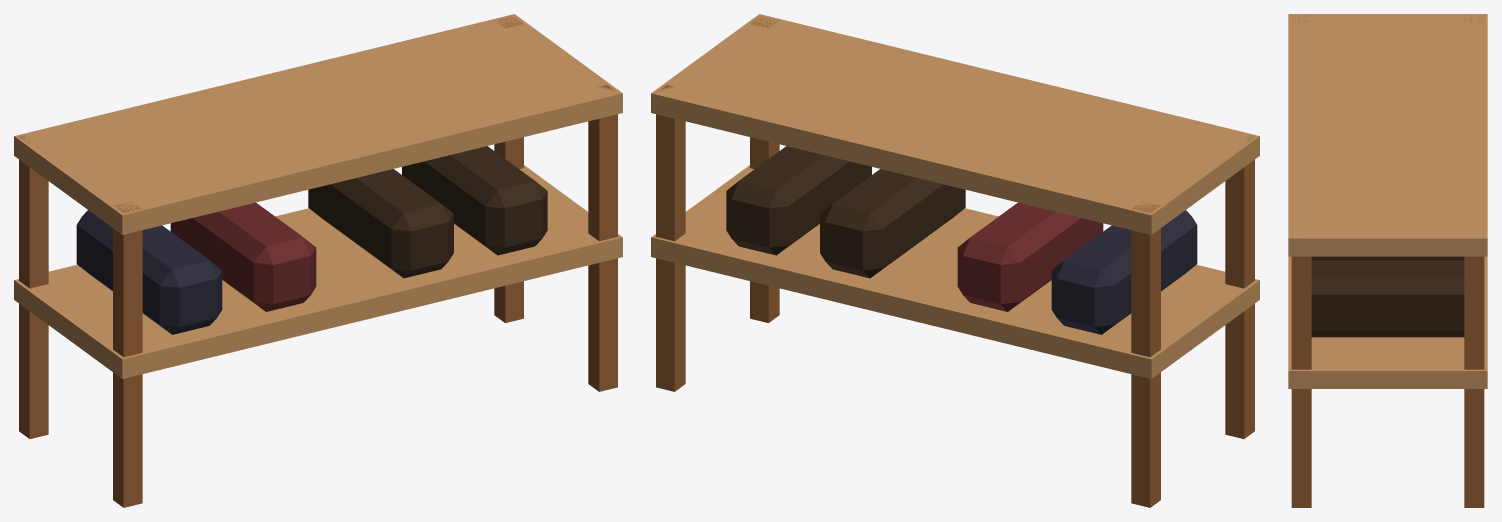
File: shoeRack.fbx
3 views of the same model, side by side, from view 1: azimuth 30°, elevation 25°; view 2: azimuth 150°, elevation 25°; view 3: azimuth 270°, elevation 25° (orthographic). The views are drawn at different scales.
Parts seen in each view (by area): view 1: shoeRack; view 2: shoeRack; view 3: shoeRack.
Boxes of the visible parts, x1,y1,x2,y2 form: shoeRack: (14, 14, 622, 507); shoeRack: (651, 14, 1259, 507); shoeRack: (1288, 14, 1487, 507).
Bounding box in the file's own units: 3.2 × 1.8 × 1.2.
